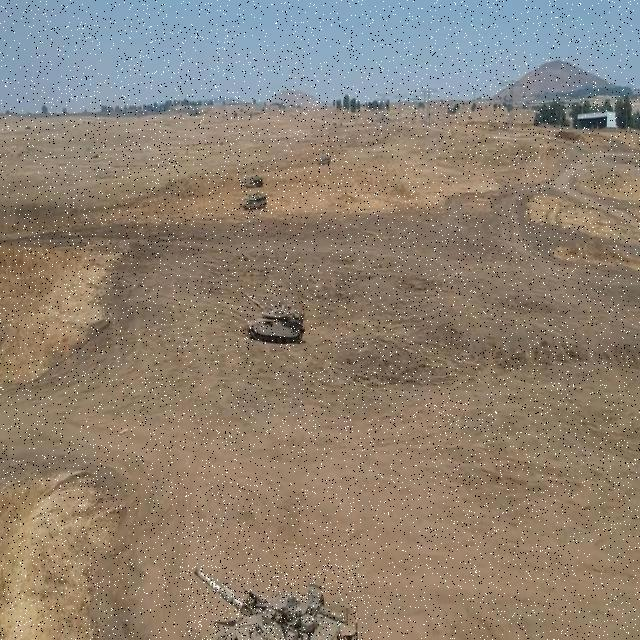MIL_MBT: (187, 565, 364, 640), (240, 284, 309, 342), (241, 190, 269, 214), (314, 150, 331, 166), (243, 174, 262, 186)
